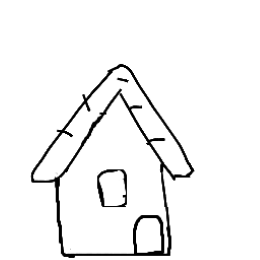bottom_placed_house: (4, 0, 260, 260)
door: (126, 212, 182, 259)
open_window: (90, 158, 133, 211)
roof: (20, 59, 216, 185)
wall: (40, 118, 184, 260)
